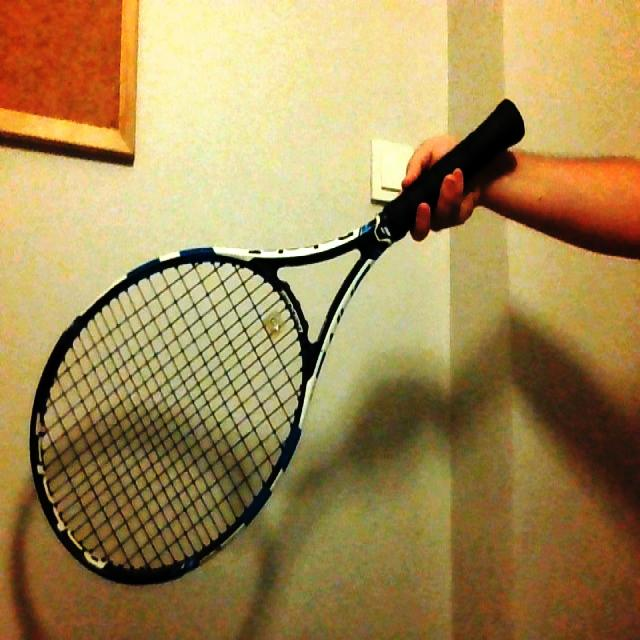TennisRacket: (30, 99, 525, 588)
